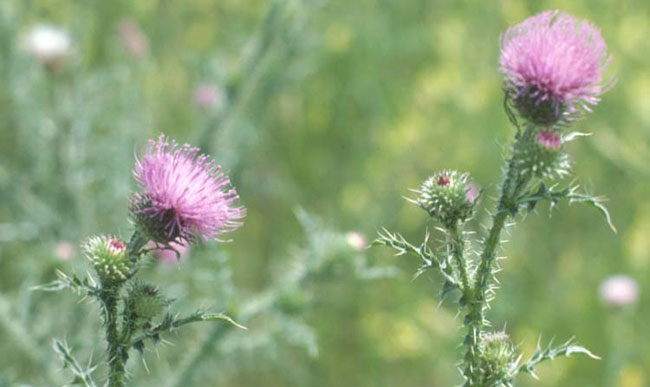thistle: (112, 142, 247, 254), (497, 8, 613, 126)
